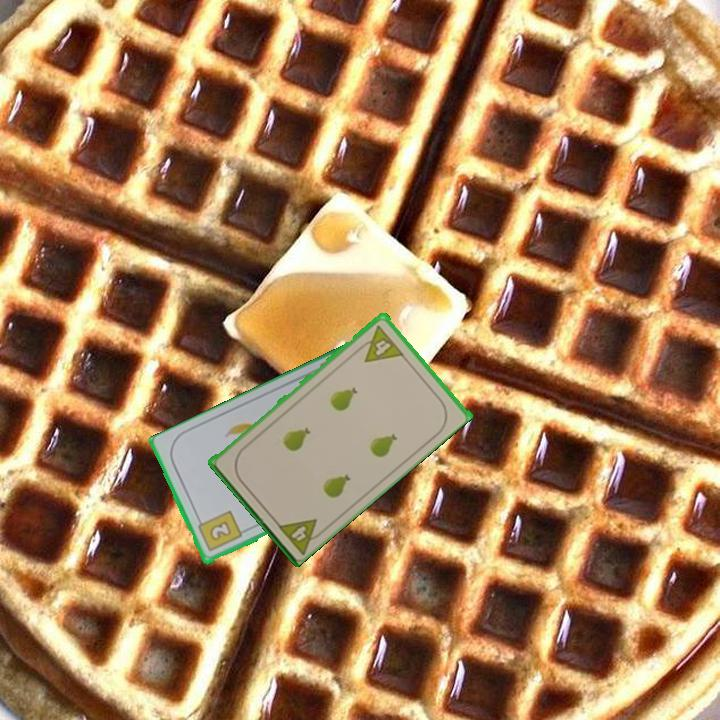2b: (194, 507, 244, 555)
4p: (273, 514, 329, 556), (353, 321, 406, 365)
